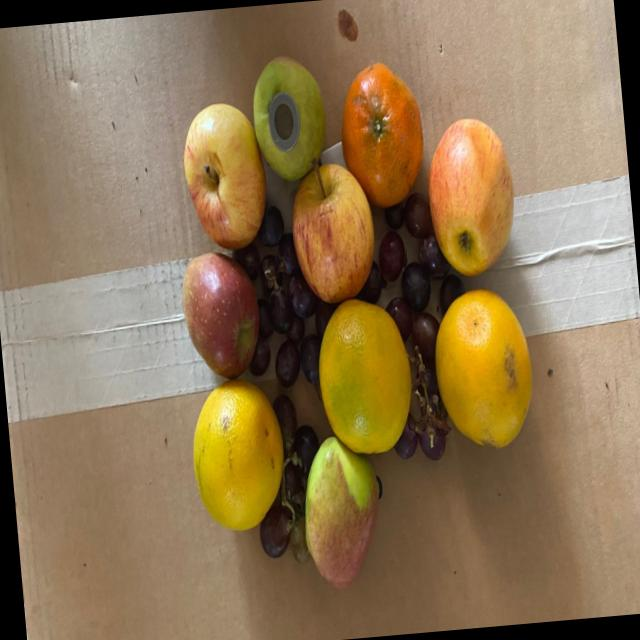moneda: (264, 79, 304, 156)
